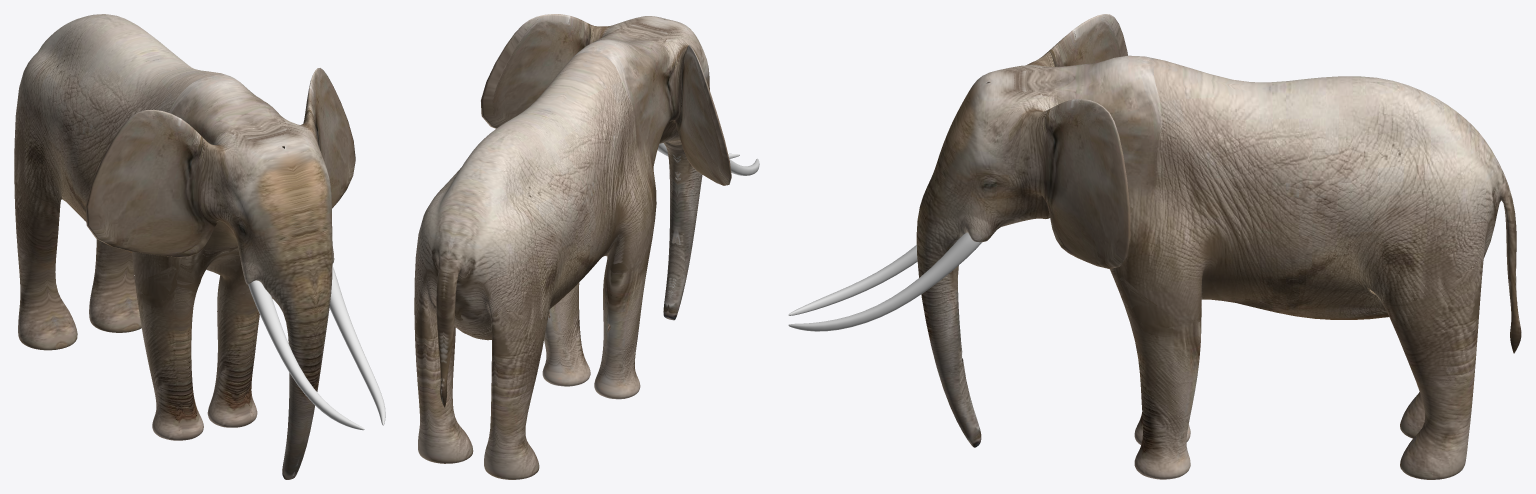
The model's file is 12_Elephas maximus.fbx.
3 views of the same model, side by side, from view 1: azimuth 30°, elevation 25°; view 2: azimuth 150°, elevation 25°; view 3: azimuth 270°, elevation 25° (orthographic). The views are drawn at different scales.
Visible parts, largest first — view 1: Cube, Cube.001; view 2: Cube, Cube.001; view 3: Cube, Cube.001.
Boxes of the visible parts, x1,y1,x2,y2 form: Cube: (14, 14, 355, 479); Cube.001: (248, 266, 385, 430); Cube: (414, 14, 731, 479); Cube.001: (657, 143, 759, 175); Cube: (916, 14, 1521, 479); Cube.001: (788, 232, 981, 331).
Bounding box in the file's own units: 700 × 889 × 1487.
Materials: 1 (1 with a texture image).
